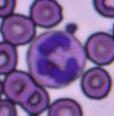N: (26, 30, 86, 88)
